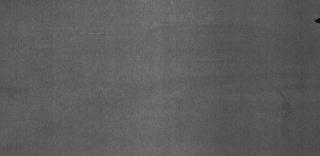punching hole: (314, 17, 320, 23)
